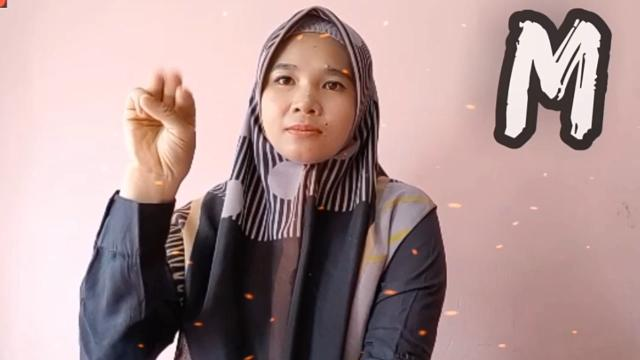M: (116, 63, 200, 183)
